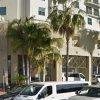Tree: (12, 13, 54, 76)
